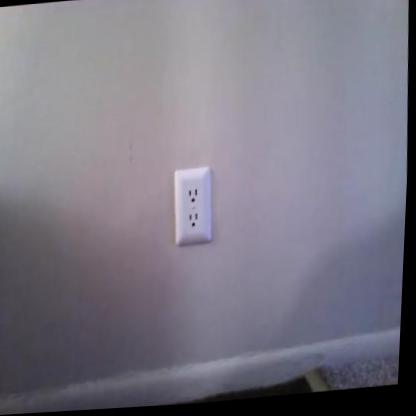OUTLET: (169, 165, 217, 247)
